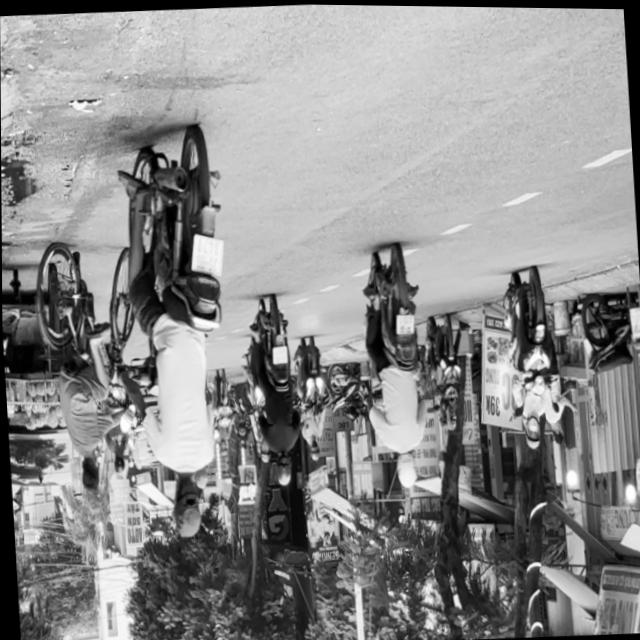helmet: (395, 451, 418, 488), (524, 414, 543, 450)
licenseplate: (100, 122, 245, 543), (357, 242, 433, 492), (499, 264, 561, 452)
motorcyclist: (170, 474, 205, 539)
nohelmet: (191, 234, 226, 275), (396, 315, 414, 336)
